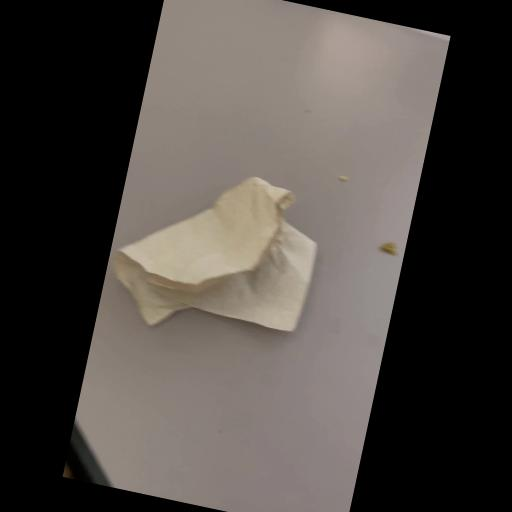napkin: (101, 152, 328, 355)
